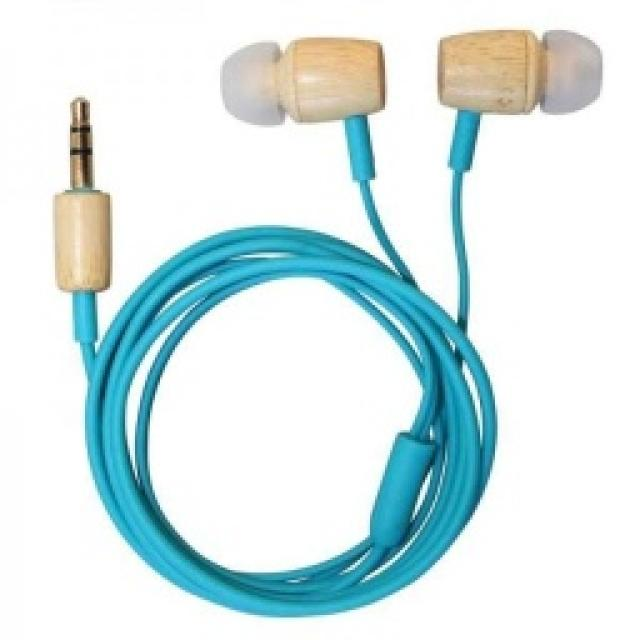headphones: (50, 25, 602, 617)
